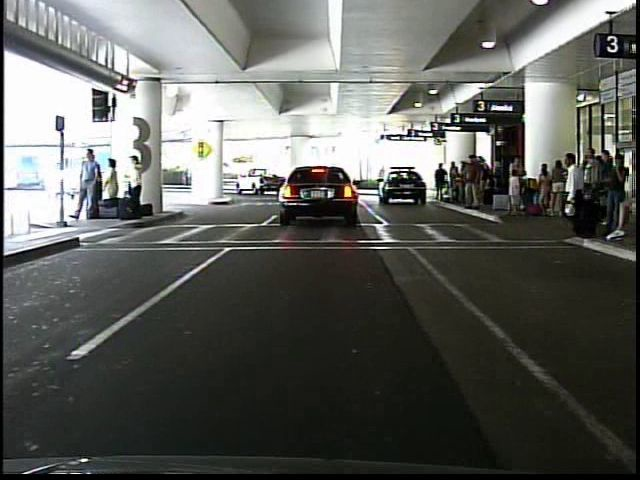person: (549, 145, 599, 249), (76, 147, 104, 225), (127, 151, 146, 221), (104, 156, 123, 215), (433, 162, 449, 203)
